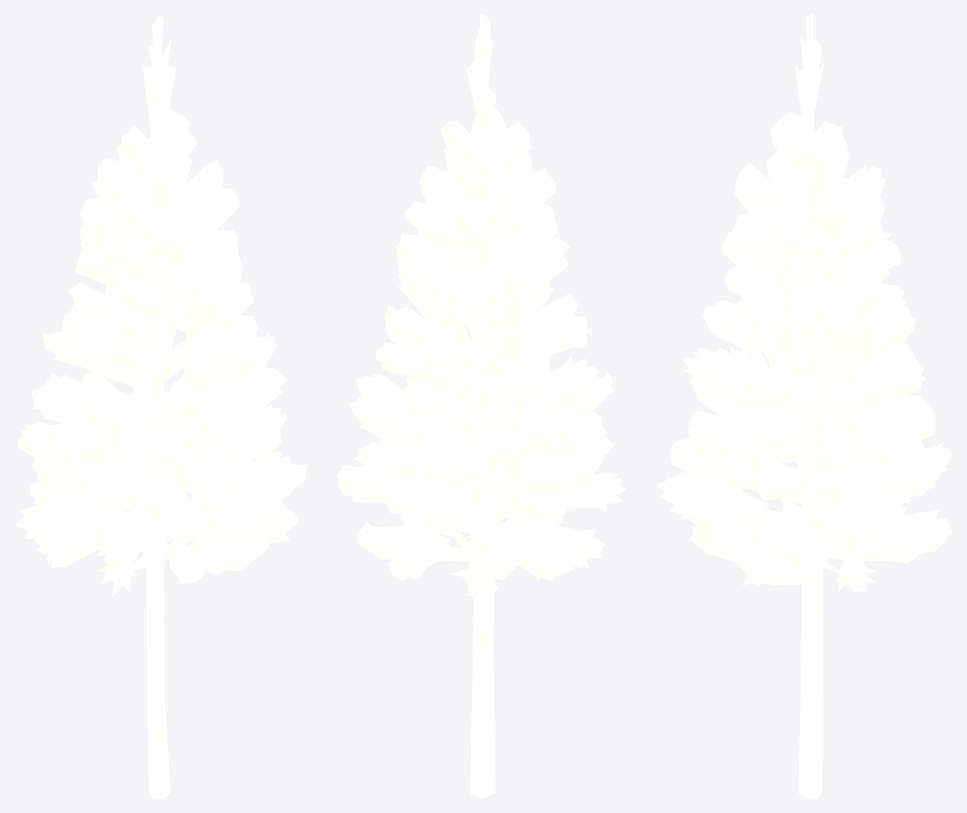
File: tree_fir.glb
3 renders of one model, left to right at view 1: azimuth 30°, elevation 25°; view 2: azimuth 150°, elevation 25°; view 3: azimuth 270°, elevation 25°, orthographic.
Parts seen in each view (by area): view 1: Mesh1.0; view 2: Mesh1.0; view 3: Mesh1.0.
Part boxes in pixels (bbox=[...]): Mesh1.0: bbox=[14, 14, 307, 798]; Mesh1.0: bbox=[336, 14, 626, 798]; Mesh1.0: bbox=[656, 14, 952, 798].
Bounding box in the file's own units: 0.6313 × 1.86 × 0.6395.
1 material, 1 textured.
